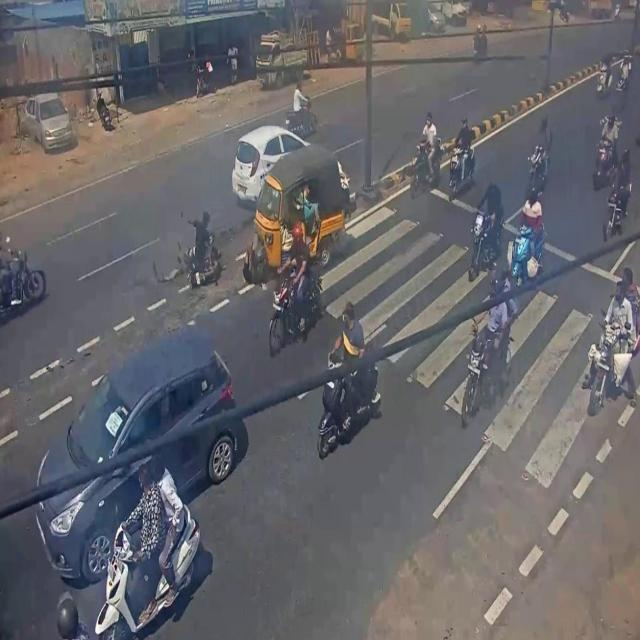accident: (163, 122, 353, 290)
non_accident: (30, 272, 254, 640)
